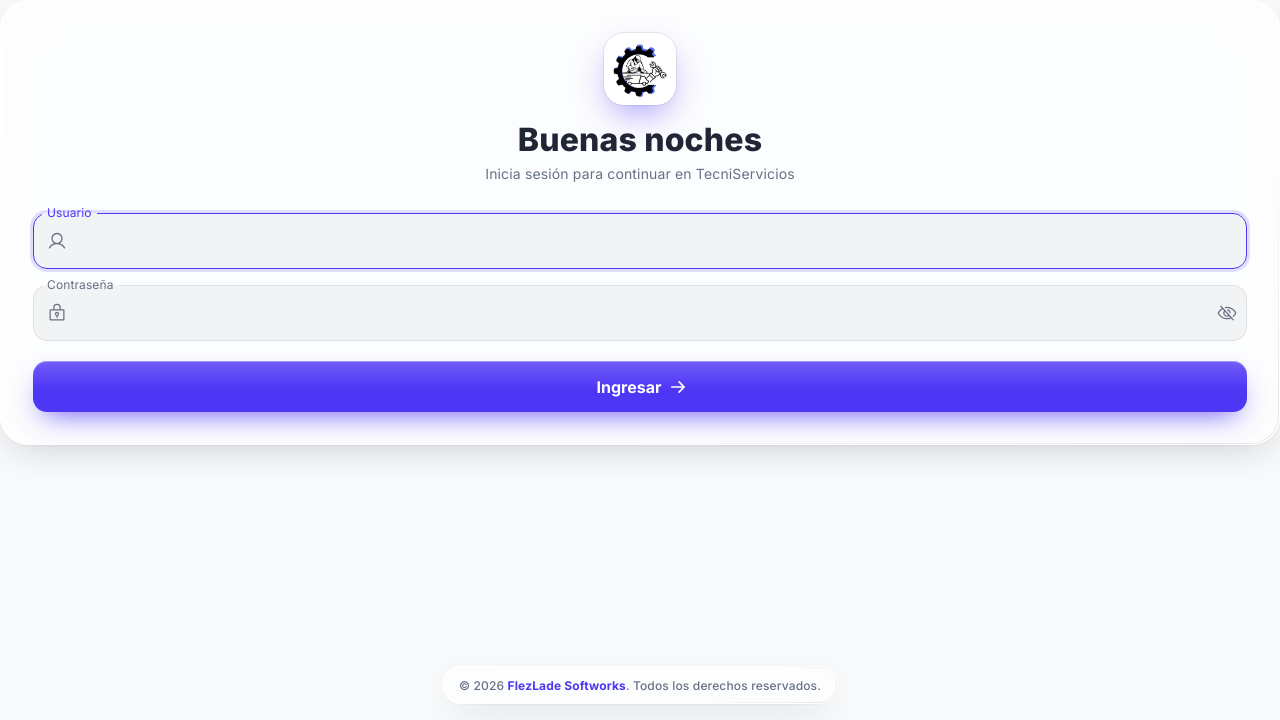
Test: SignInForm › exige usuario y contraseña y sacude la tarjeta
Click the button "Ingresar": (640, 387) [33,361,1247,412]
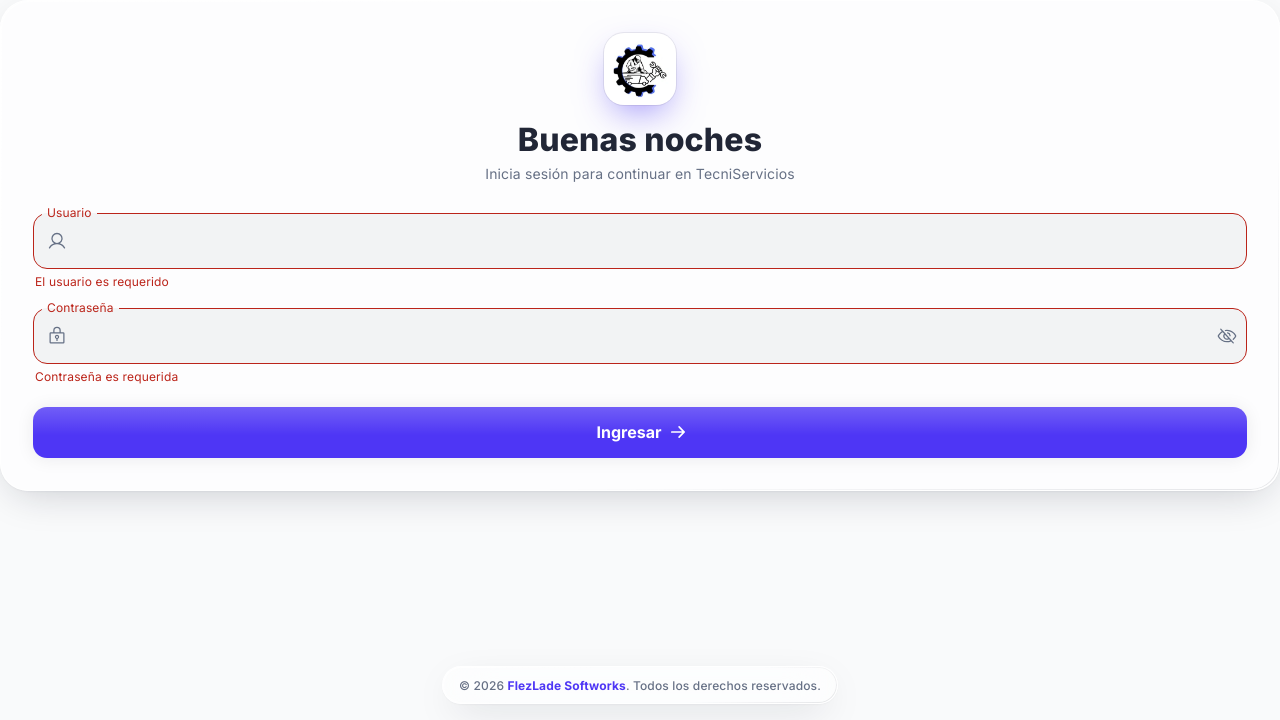
Result: the text "El usuario es requerido" is shown at [35,274,169,289]
Result: the text "Contraseña es requerida" is shown at [35,369,178,384]
